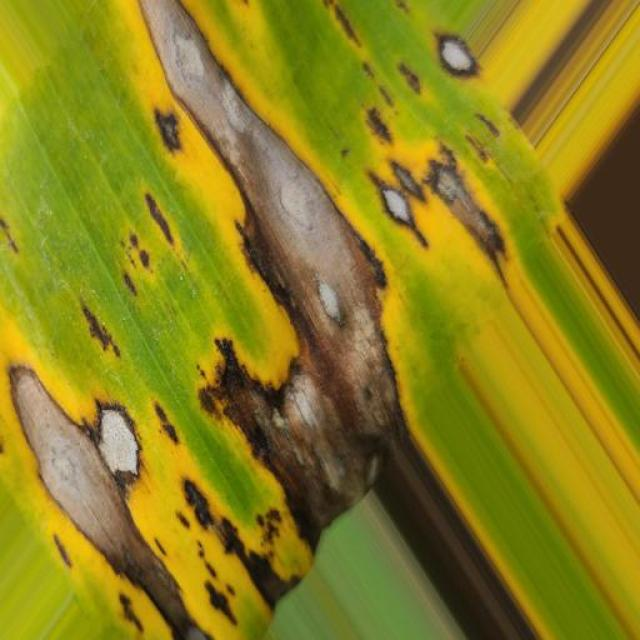Early_rust: (0, 0, 559, 640)
